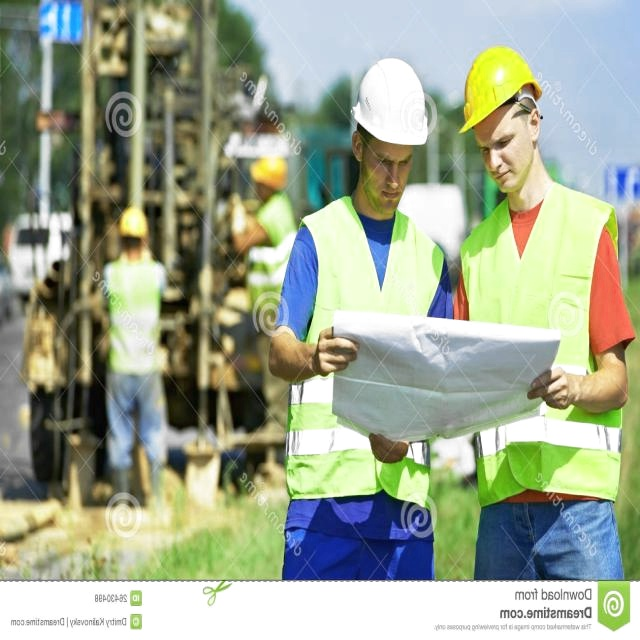Con_Casco: (352, 57, 426, 217), (460, 47, 540, 189)
Con_Chaleco: (282, 216, 438, 496), (466, 197, 611, 488)
